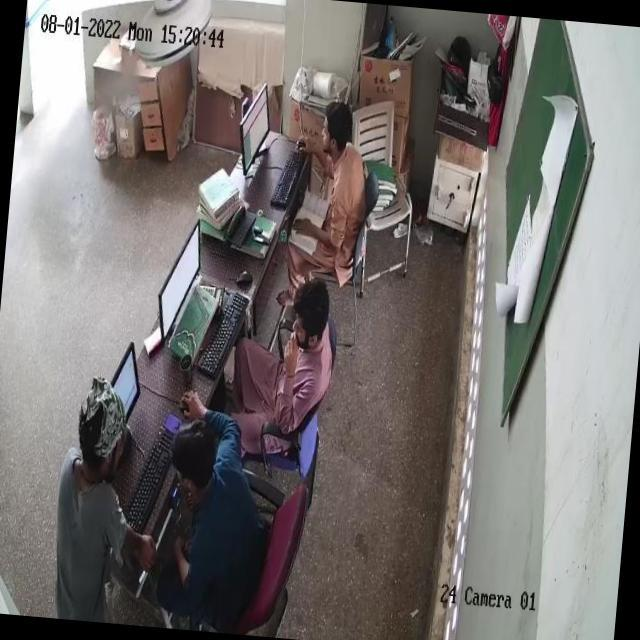person: (148, 393, 284, 610), (49, 386, 129, 622), (244, 262, 330, 419), (298, 102, 362, 250)
